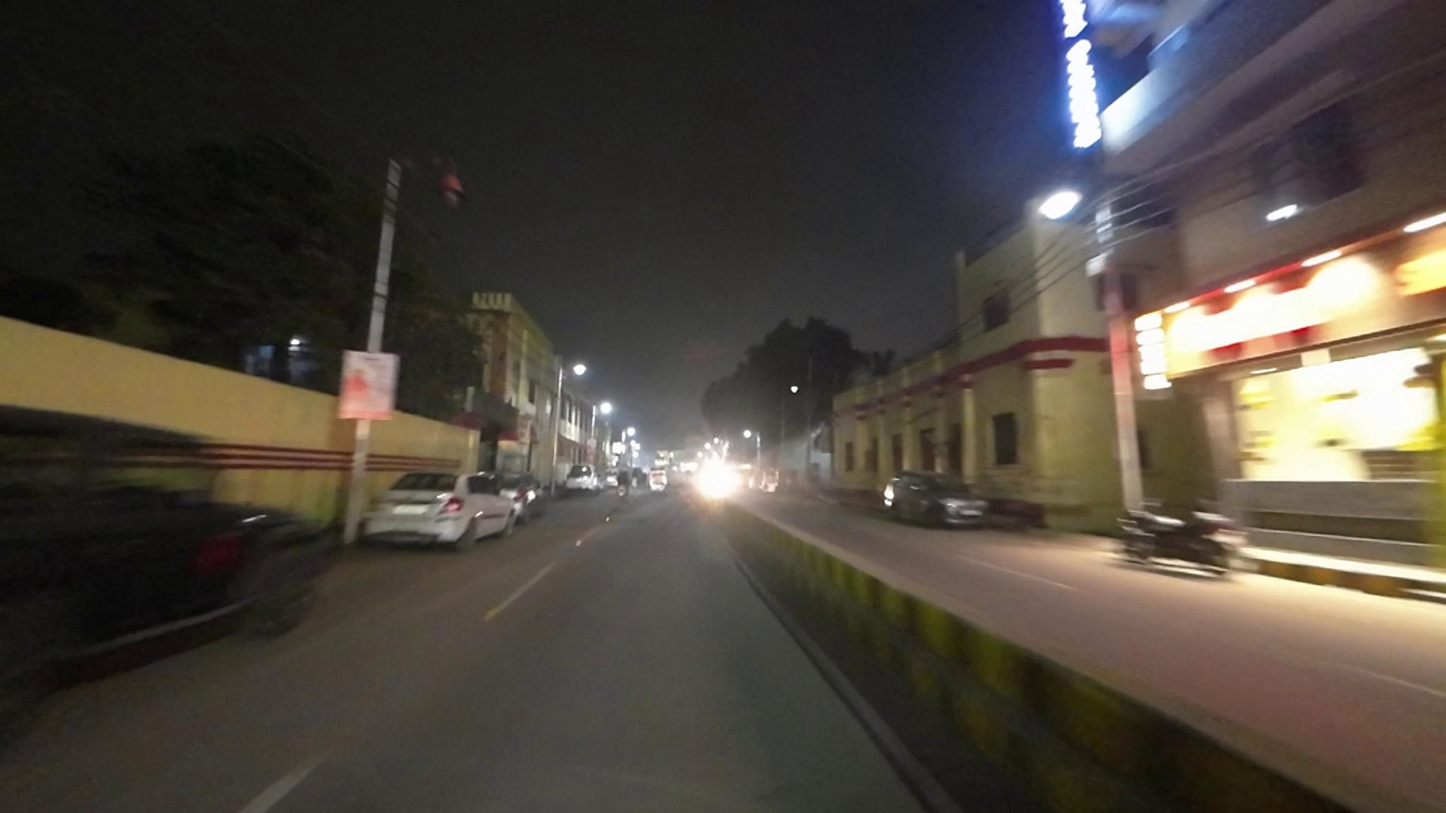streetlight: (428, 154, 468, 212)
